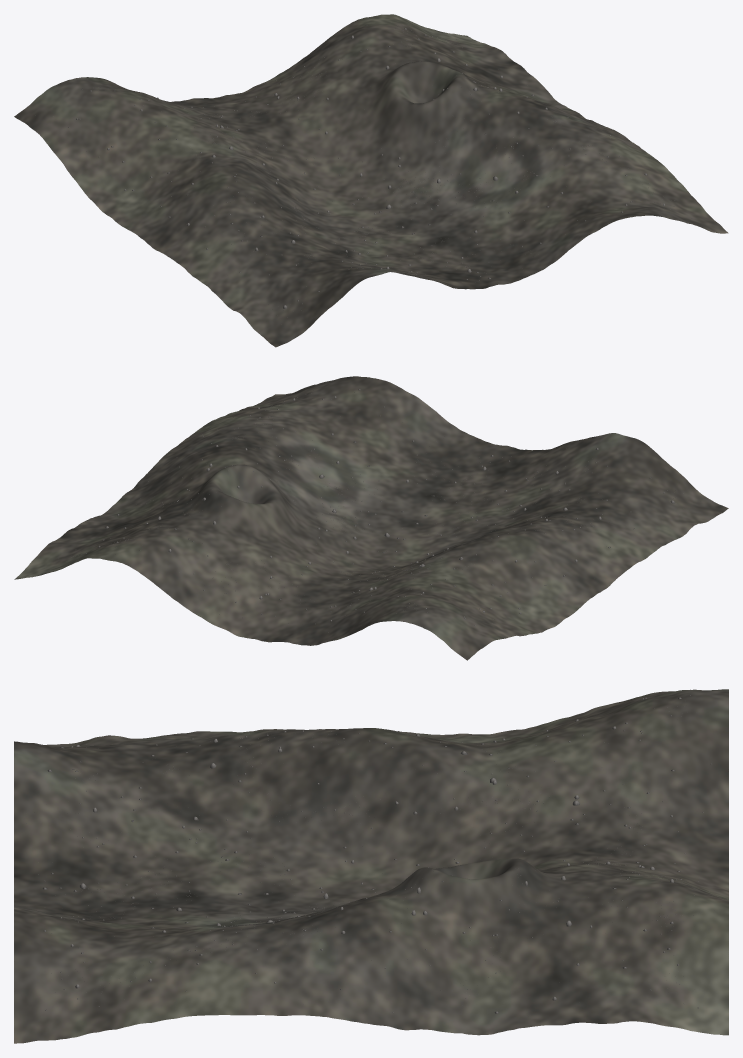
File: landscape.glb
3 renders of one model, top to bottom at view 1: azimuth 30°, elevation 25°; view 2: azimuth 150°, elevation 25°; view 3: azimuth 270°, elevation 25°, orthographic. The views are drawn at different scales.
Parts seen in each view (by area): view 1: VolcanicHighlandV2_Terrain, ErodedBasaltBoulders; view 2: VolcanicHighlandV2_Terrain, ErodedBasaltBoulders; view 3: VolcanicHighlandV2_Terrain, ErodedBasaltBoulders.
Part boxes in pixels (box(x1,y1,x2,y2)): VolcanicHighlandV2_Terrain: box(14, 14, 728, 347); ErodedBasaltBoulders: box(68, 22, 692, 321); VolcanicHighlandV2_Terrain: box(14, 376, 728, 660); ErodedBasaltBoulders: box(47, 389, 683, 632); VolcanicHighlandV2_Terrain: box(14, 689, 728, 1043); ErodedBasaltBoulders: box(26, 695, 711, 1021).
Size of the model in its own units: 3600 by 571 by 3600.
Materials: 2 (2 with a texture image).
